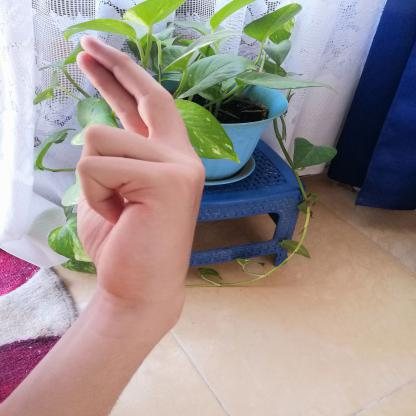ZAY: (60, 27, 216, 320)
